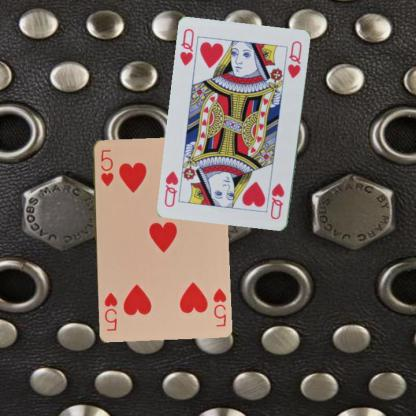5h: (210, 286, 228, 328), (98, 147, 115, 187)
Qh: (177, 26, 196, 67), (268, 181, 286, 221)
